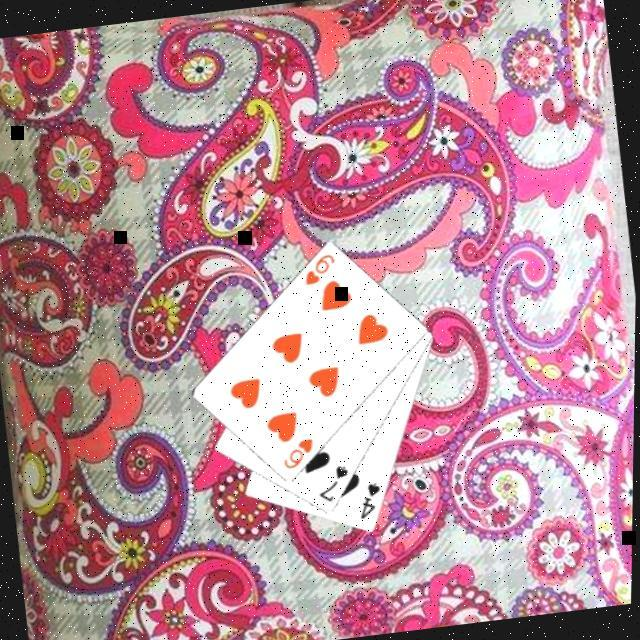4S: (352, 477, 386, 520)
6H: (276, 432, 318, 470), (298, 248, 340, 286)
7S: (311, 460, 355, 504)
